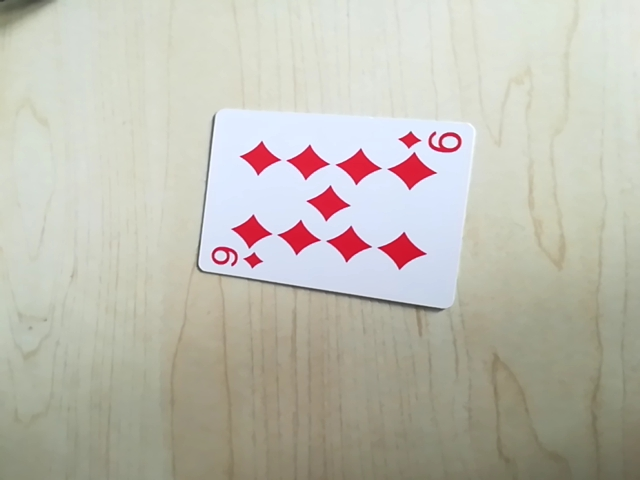fk 9: (393, 124, 467, 156), (205, 245, 267, 276)
